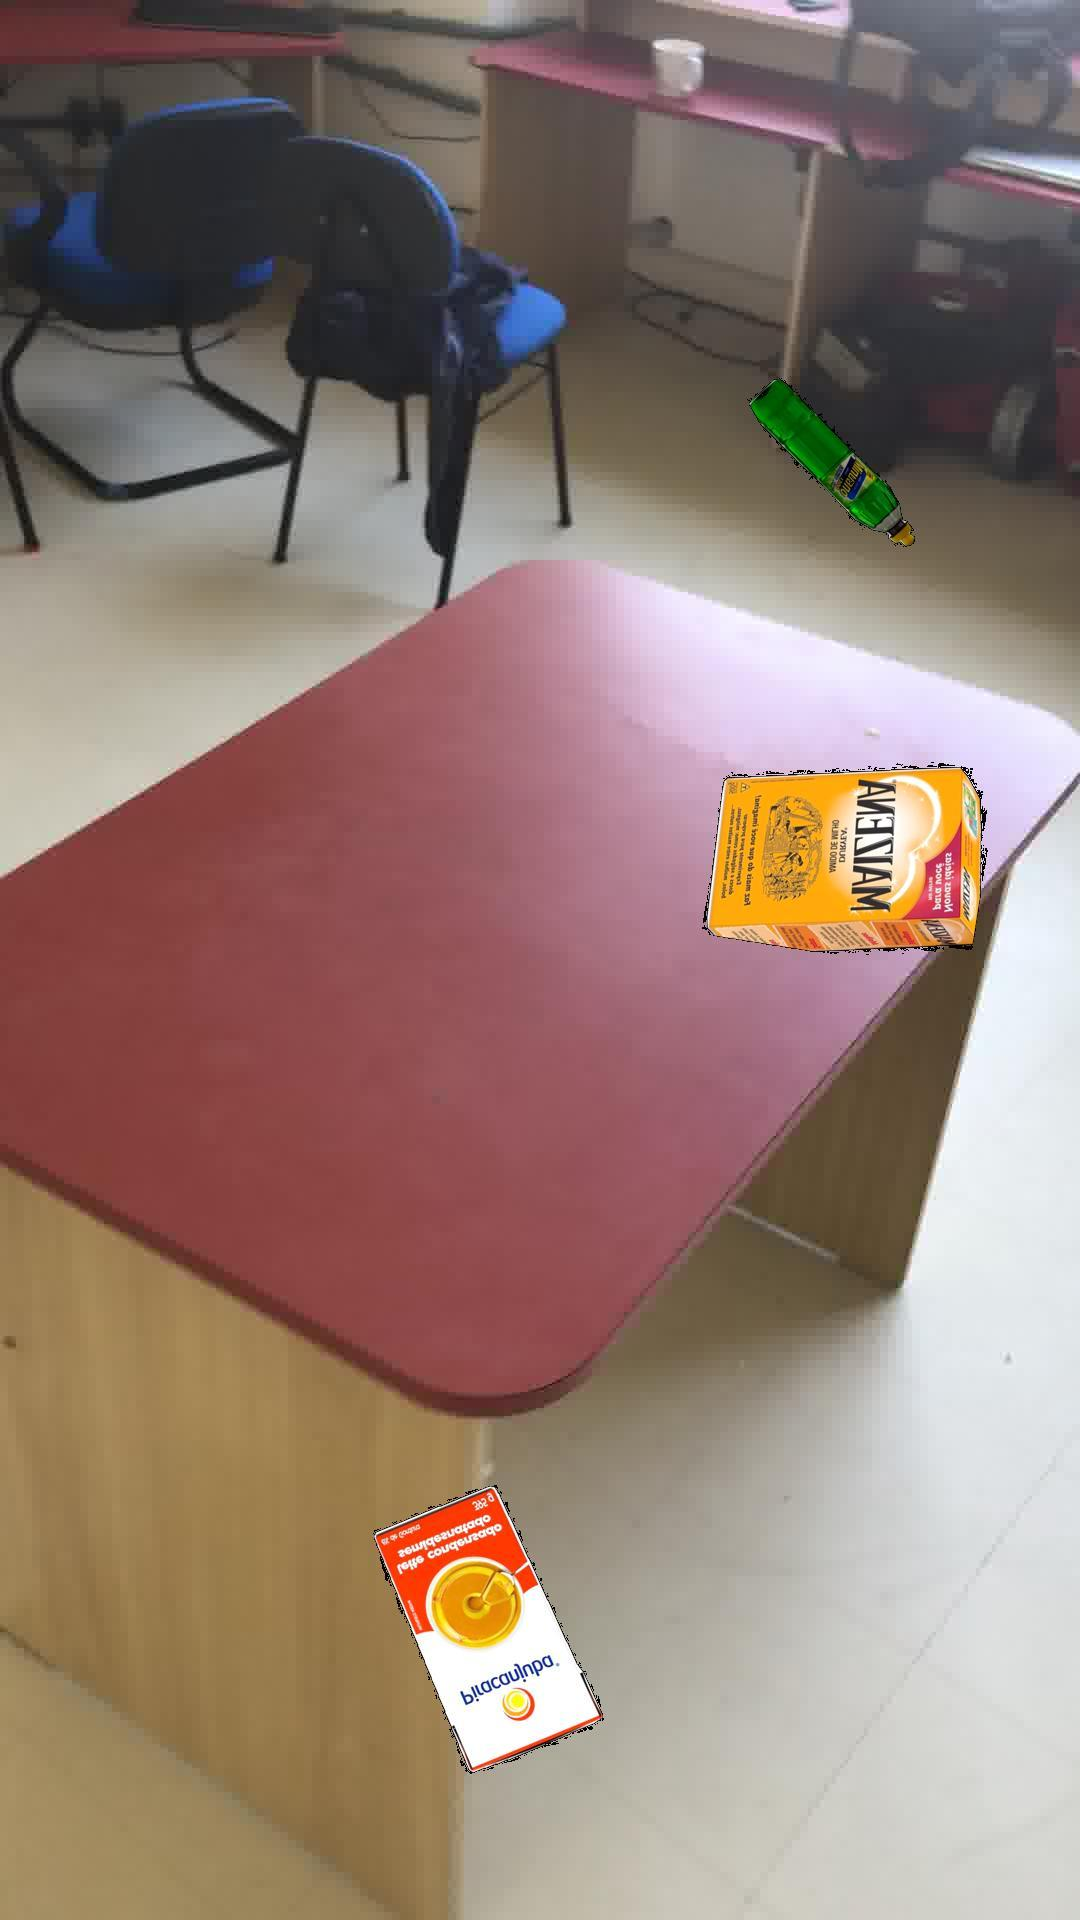cleaner: (748, 377, 914, 546)
